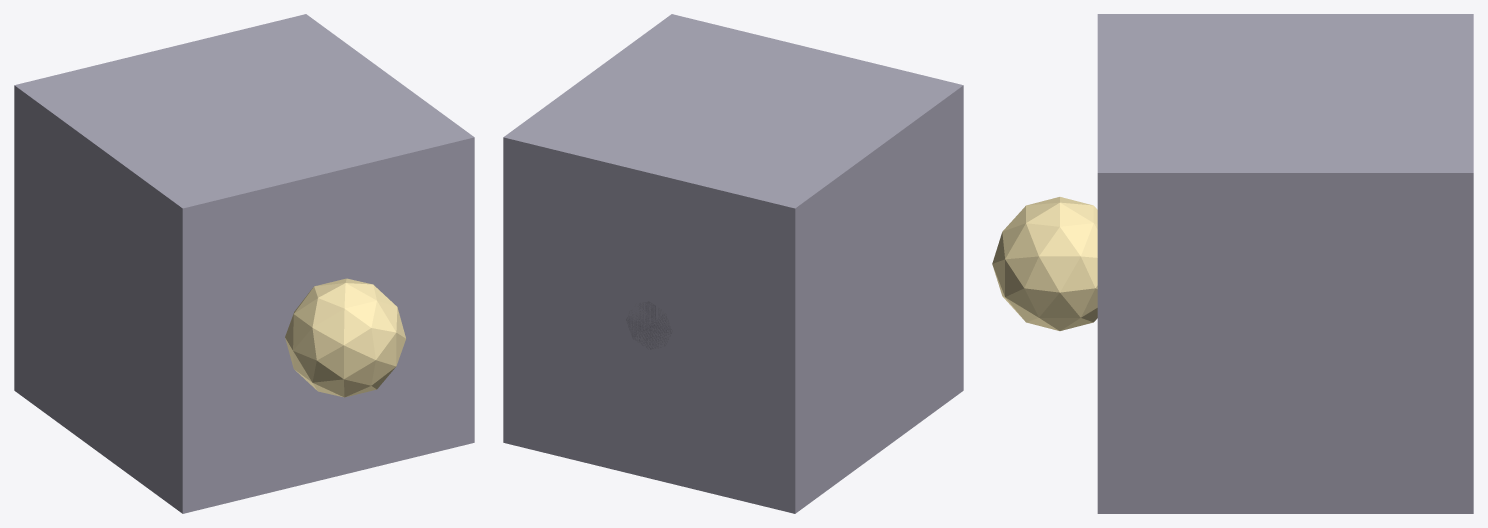
Rendered from 26_sunlamp.glb.
3 views of the same model, side by side, from view 1: azimuth 30°, elevation 25°; view 2: azimuth 150°, elevation 25°; view 3: azimuth 270°, elevation 25° (orthographic). The views are drawn at different scales.
Visible parts, largest first — view 1: Core, Light; view 2: Core, Post; view 3: Core, Light.
Part boxes in pixels (x1,y1,x2,y2): Core: [14, 14, 474, 513]; Light: [285, 278, 405, 397]; Core: [503, 14, 963, 513]; Post: [626, 301, 672, 349]; Core: [1097, 14, 1473, 513]; Light: [992, 197, 1097, 330].
Bounding box in the file's own units: 1 × 1 × 1.28.
